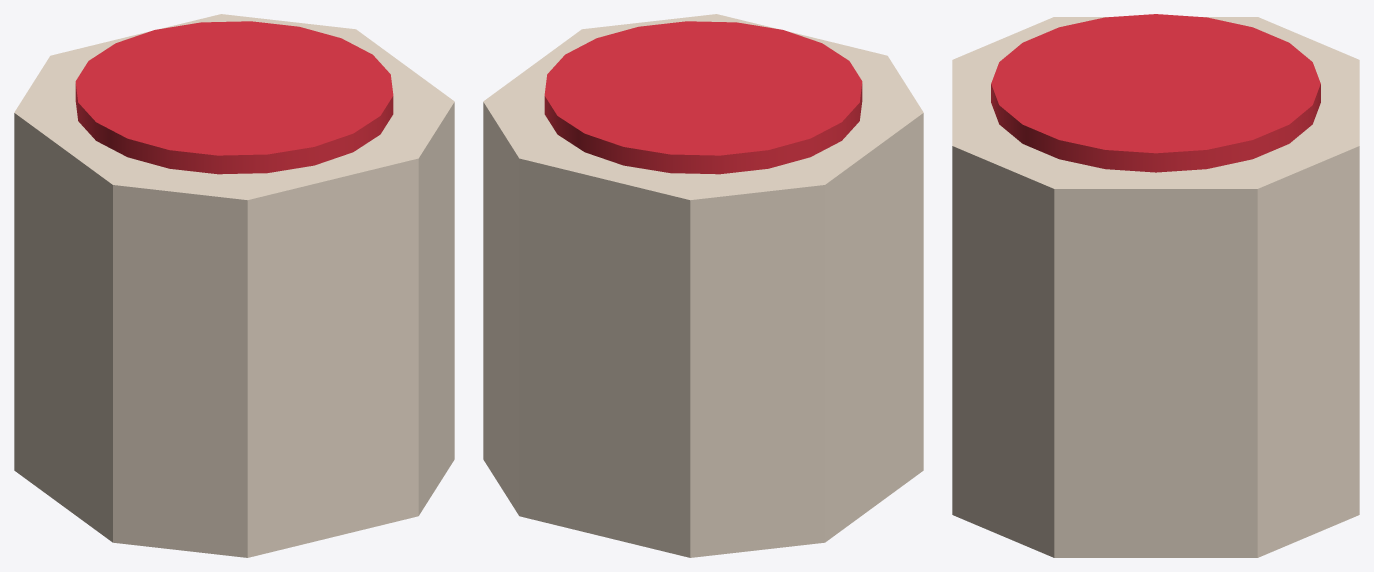
Rendered from dispenser02.fbx.
3 views of the same model, side by side, from view 1: azimuth 30°, elevation 25°; view 2: azimuth 150°, elevation 25°; view 3: azimuth 270°, elevation 25° (orthographic). The views are drawn at different scales.
Visible parts, largest first — view 1: polySurface7; view 2: polySurface7; view 3: polySurface7.
Boxes of the visible parts, box(x1,y1,x2,y2) form: polySurface7: box(14, 14, 454, 557); polySurface7: box(483, 14, 923, 557); polySurface7: box(952, 14, 1359, 557).
Size of the model in its own units: 1 by 1.05 by 1.
1 material, 1 textured.
